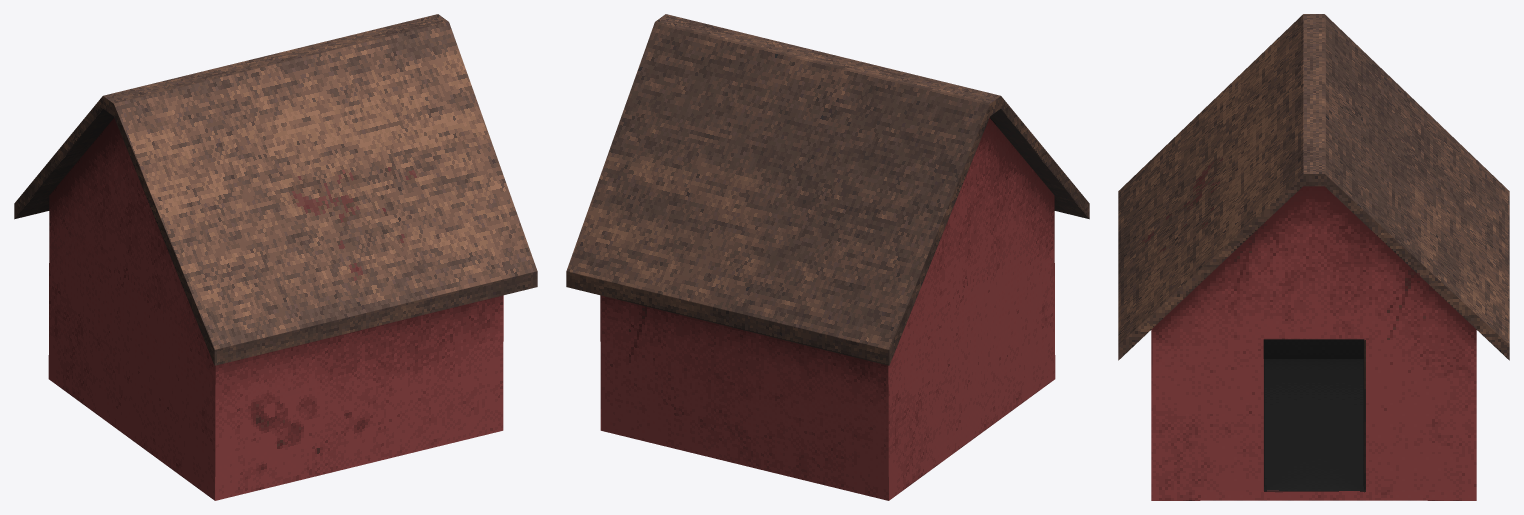
File: RedHouse.glb
The picture shows the model from 3 angles, left to right: view 1: azimuth 30°, elevation 25°; view 2: azimuth 150°, elevation 25°; view 3: azimuth 270°, elevation 25°; orthographic projection. The views are drawn at different scales.
Parts seen in each view (by area): view 1: Cube; view 2: Cube; view 3: Cube.
Part boxes in pixels (box(x1,y1,x2,y2)): Cube: box(14, 14, 537, 500); Cube: box(566, 14, 1089, 500); Cube: box(1118, 14, 1509, 500).
Size of the model in its own units: 6.65 by 6.56 by 6.87.
1 material, 1 textured.
